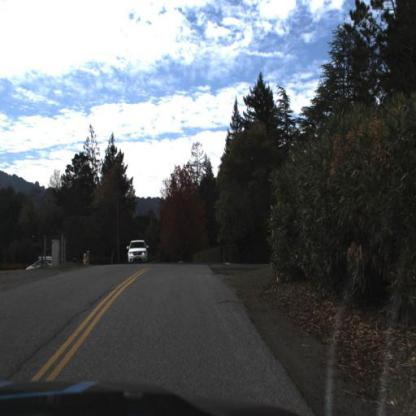car: (20, 248, 56, 276), (124, 233, 153, 263), (126, 240, 153, 269)
